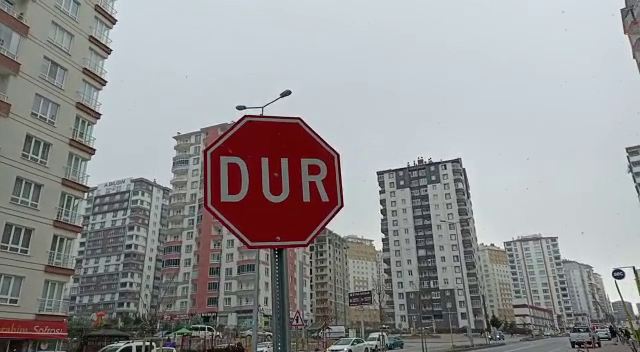stop: (200, 113, 347, 251)
